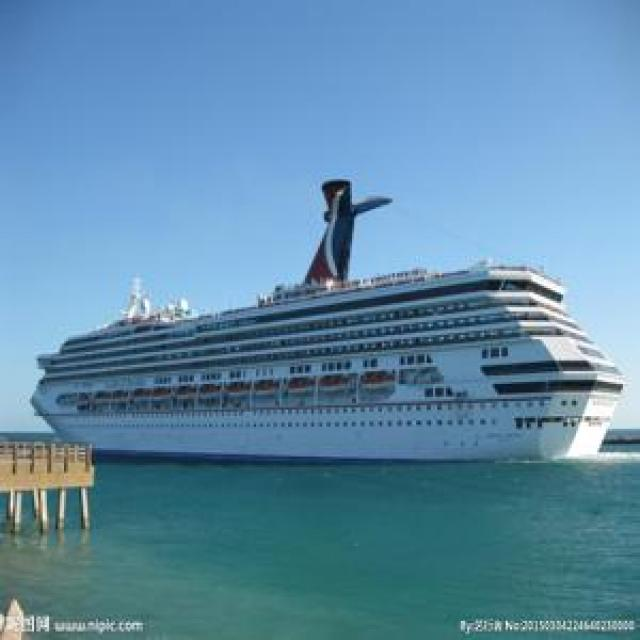passenger ship: (29, 170, 626, 472)
